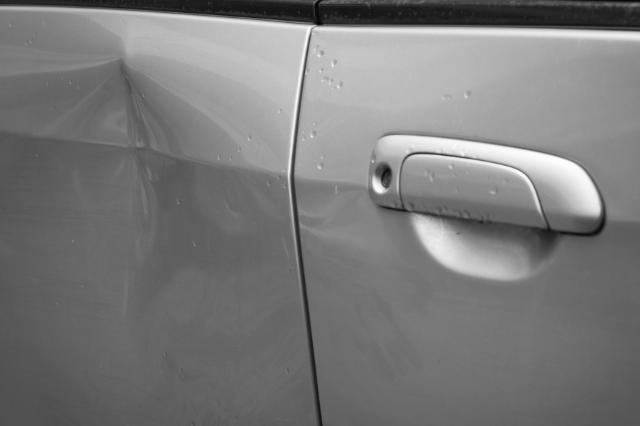Door: (0, 17, 269, 285)
